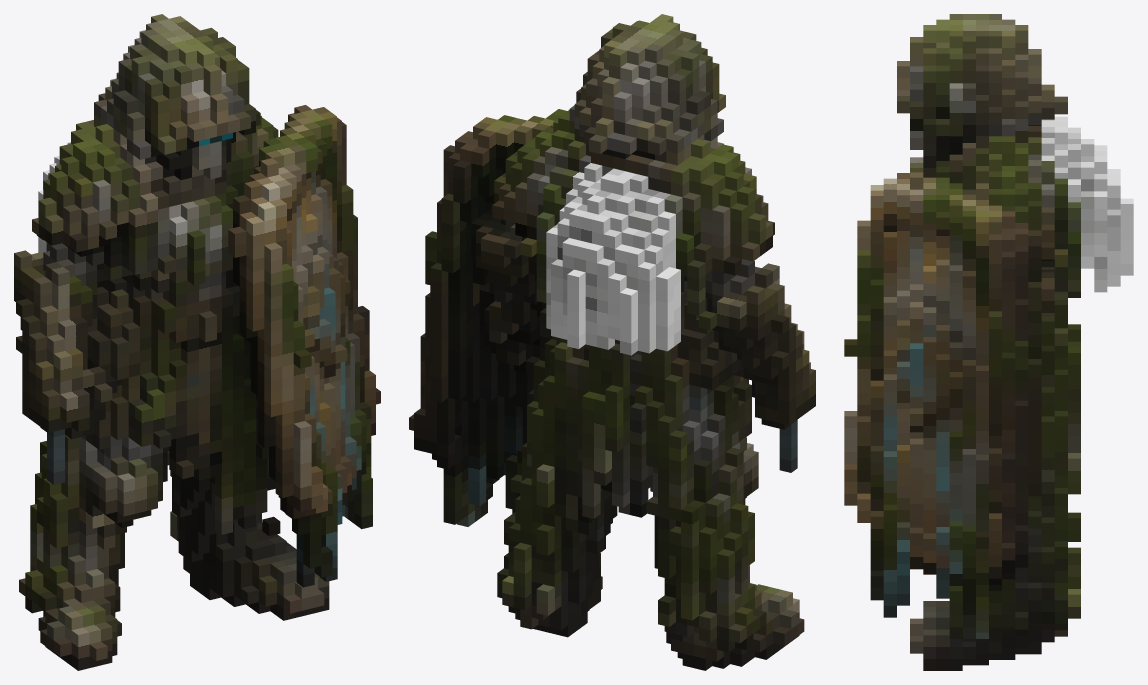
File: u_pavoiseur.glb
3 views of the same model, side by side, from view 1: azimuth 30°, elevation 25°; view 2: azimuth 150°, elevation 25°; view 3: azimuth 270°, elevation 25° (orthographic).
Visible parts, largest first — view 1: pavoiseur_body; view 2: pavoiseur_body; view 3: pavoiseur_body.
Part boxes in pixels (<box>): pavoiseur_body: <box>14,14,380,670</box>; pavoiseur_body: <box>409,14,815,670</box>; pavoiseur_body: <box>844,14,1133,670</box>.
Size of the model in its own units: 1 by 1.53 by 0.6875.
1 material, 1 textured.
